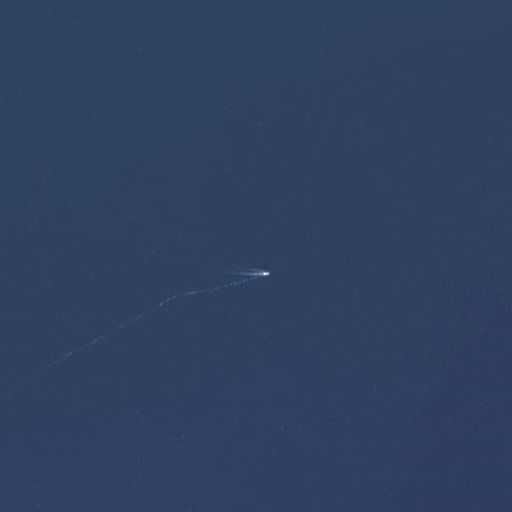ship: (259, 268, 271, 279)
